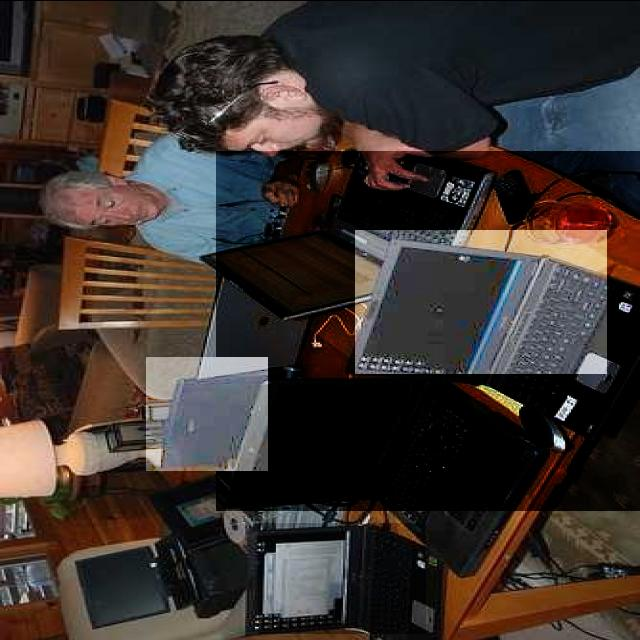-keyboard-: (216, 151, 640, 511), (356, 230, 608, 374), (258, 523, 426, 634), (146, 357, 268, 471)
